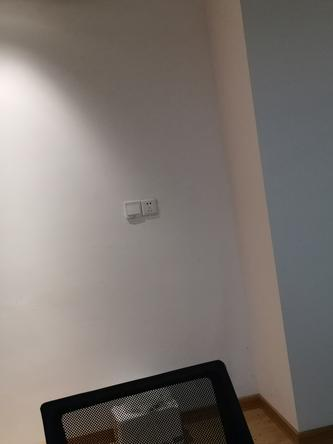switch: (122, 200, 142, 218)
